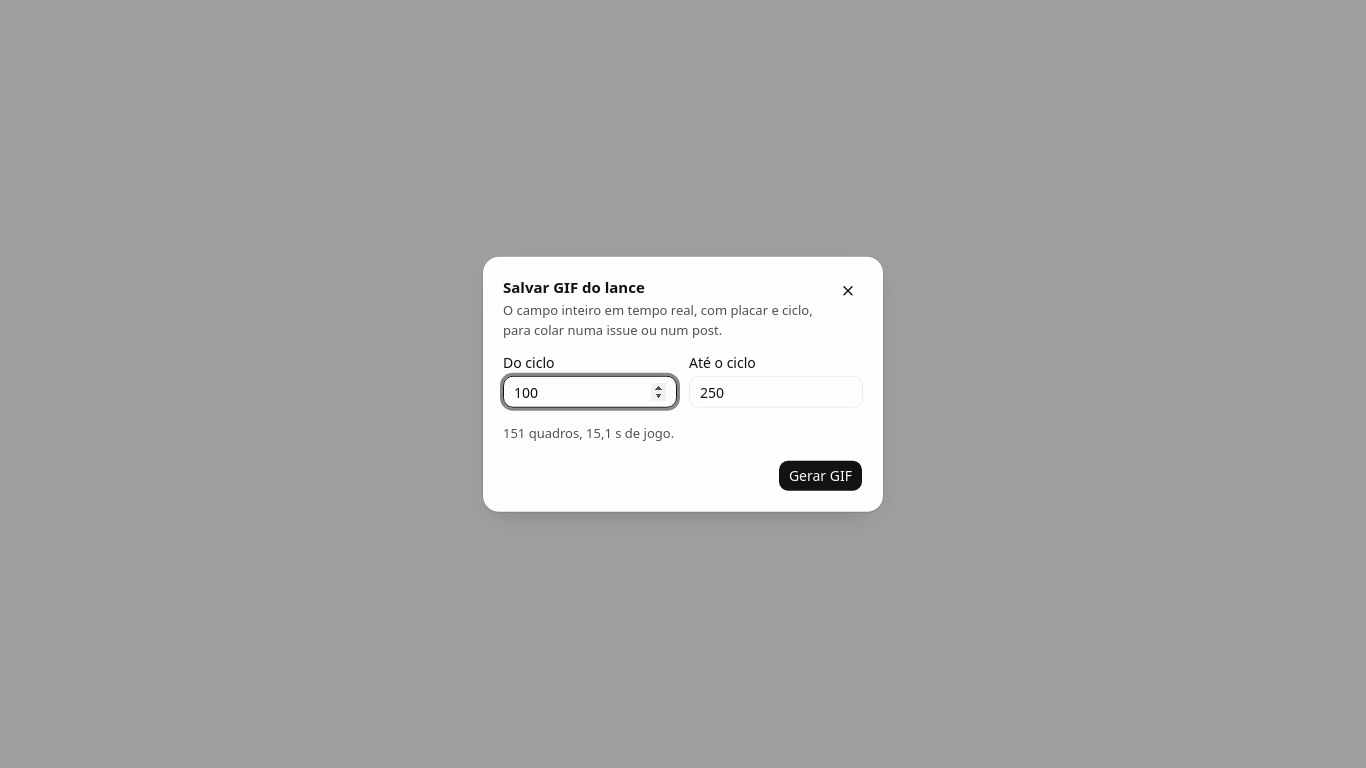
Test case: ClipDialog › refuses a clip longer than GitHub shows inline
This screenshot has width=1366, height=768.
Replace the text in the number field labelled "Do ciclo" with "1": (590, 392) [503, 376, 677, 408]
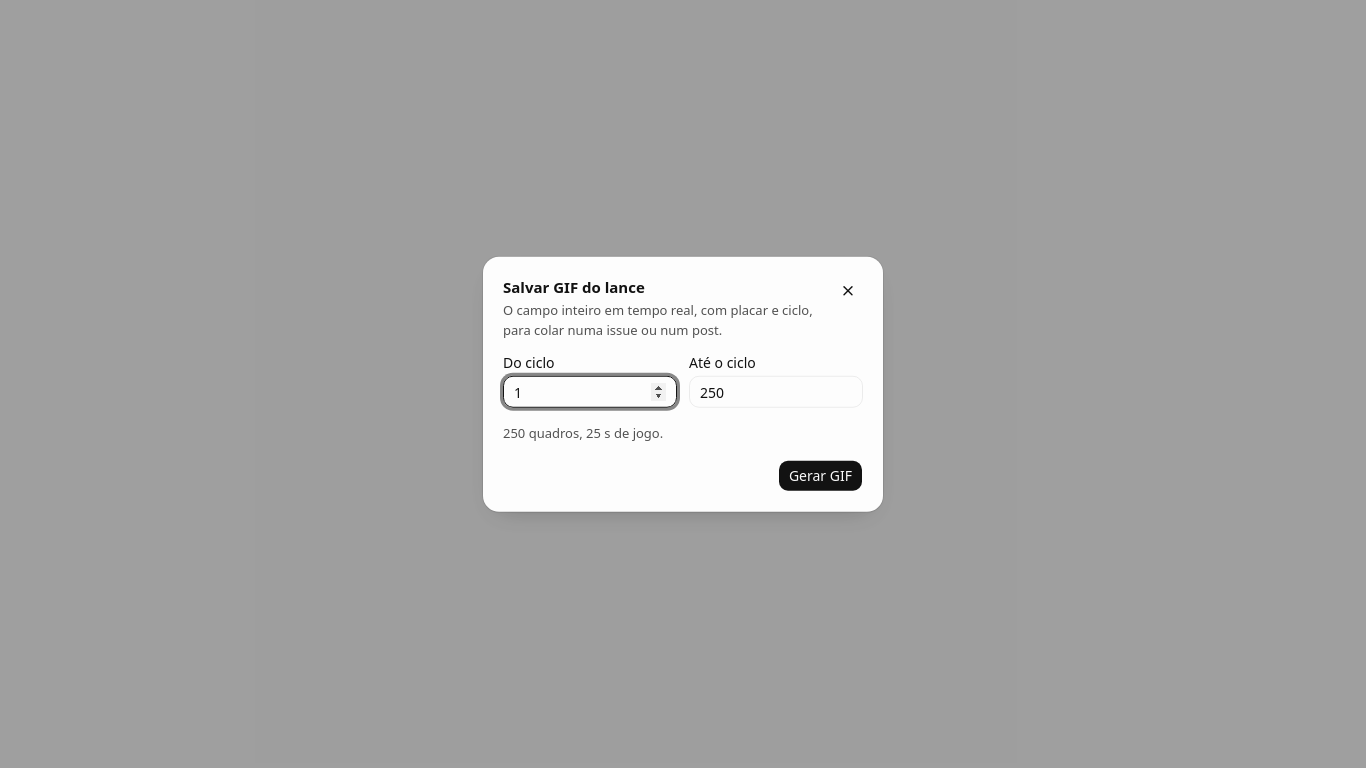
Replace the text in the number field labelled "Até o ciclo" with "700": (776, 392) [689, 376, 863, 408]
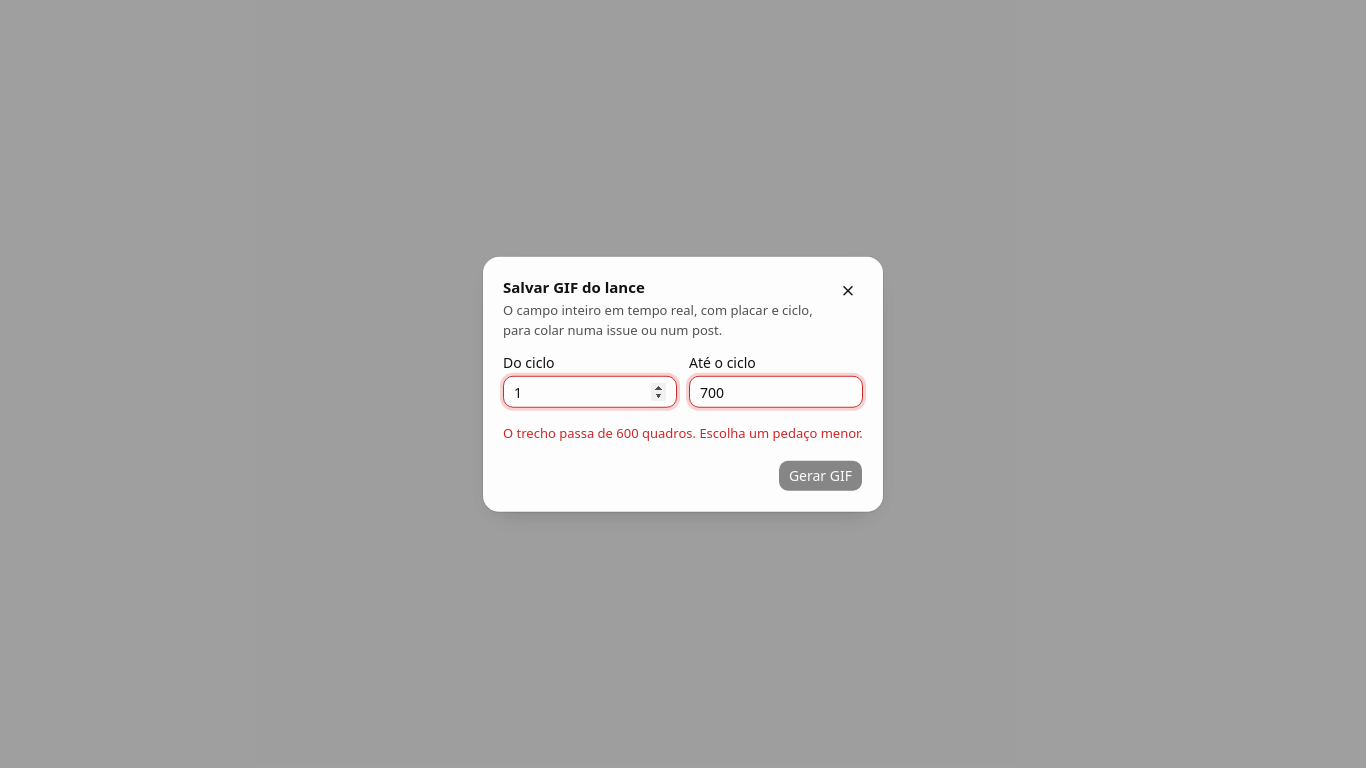
Expected: the text "O trecho passa de 600 quadros. Escolha um pedaço menor." is shown, [503, 424, 863, 443]
Expected: the button "Gerar GIF" is disabled, [778, 459, 863, 491]
